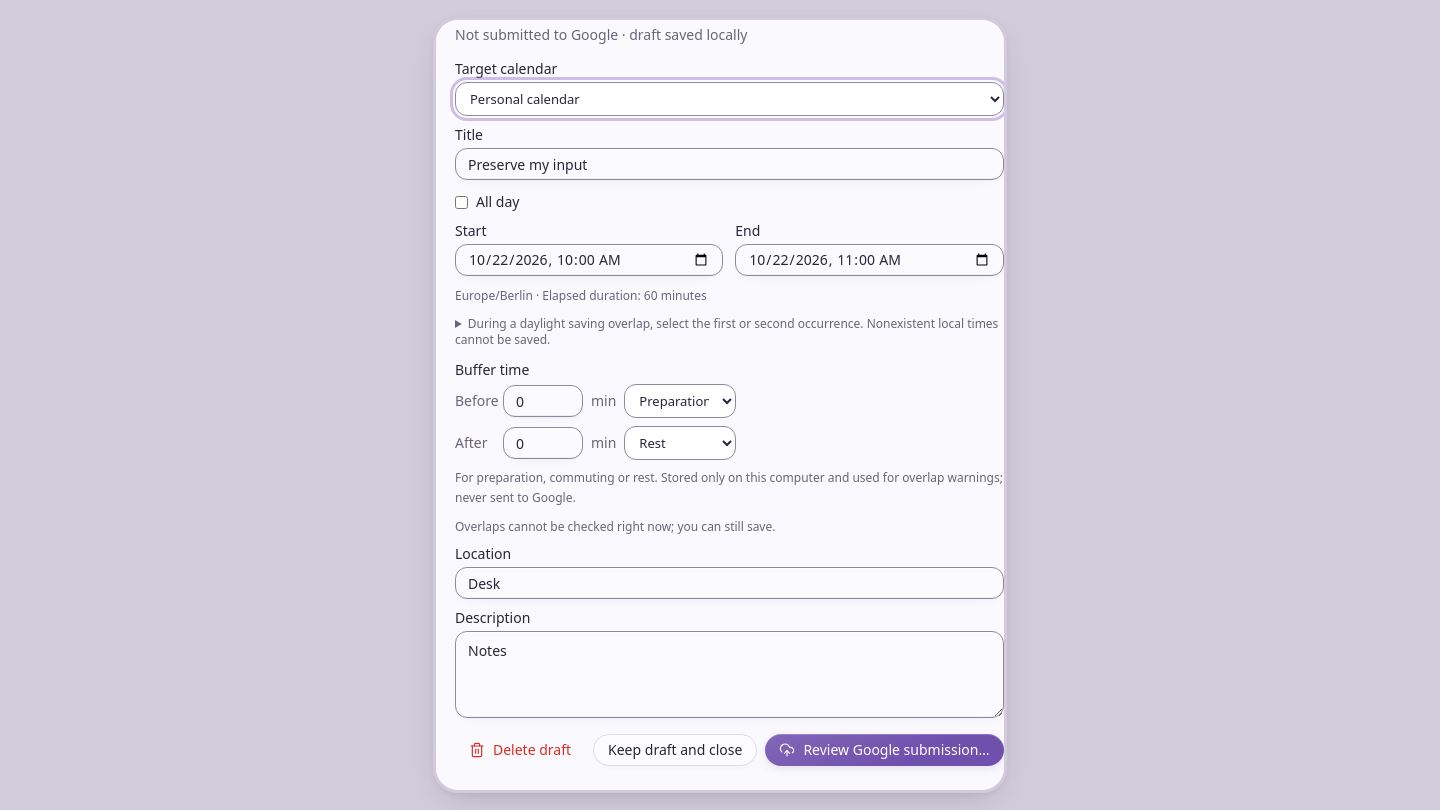
Test: calendar editor › shows both conflict versions and does not offer blind retry
(page scrolled)
Click the button "Review Google submission…". click: coordinates (884, 750)
box: left=765, top=734, right=1004, bottom=766
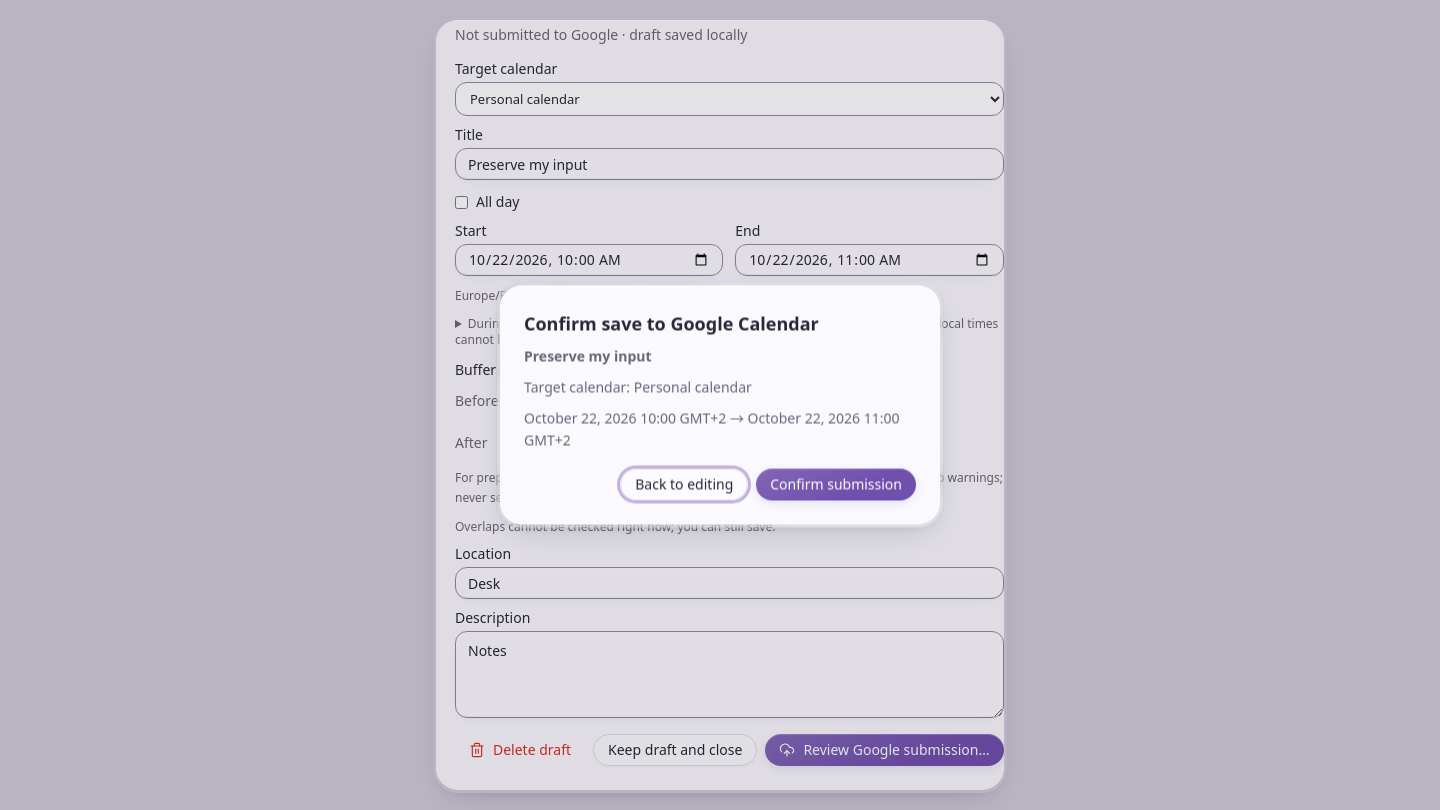
Click the button "Confirm submission". click: coordinates (836, 484)
box: left=756, top=468, right=916, bottom=500
(page scrolled)
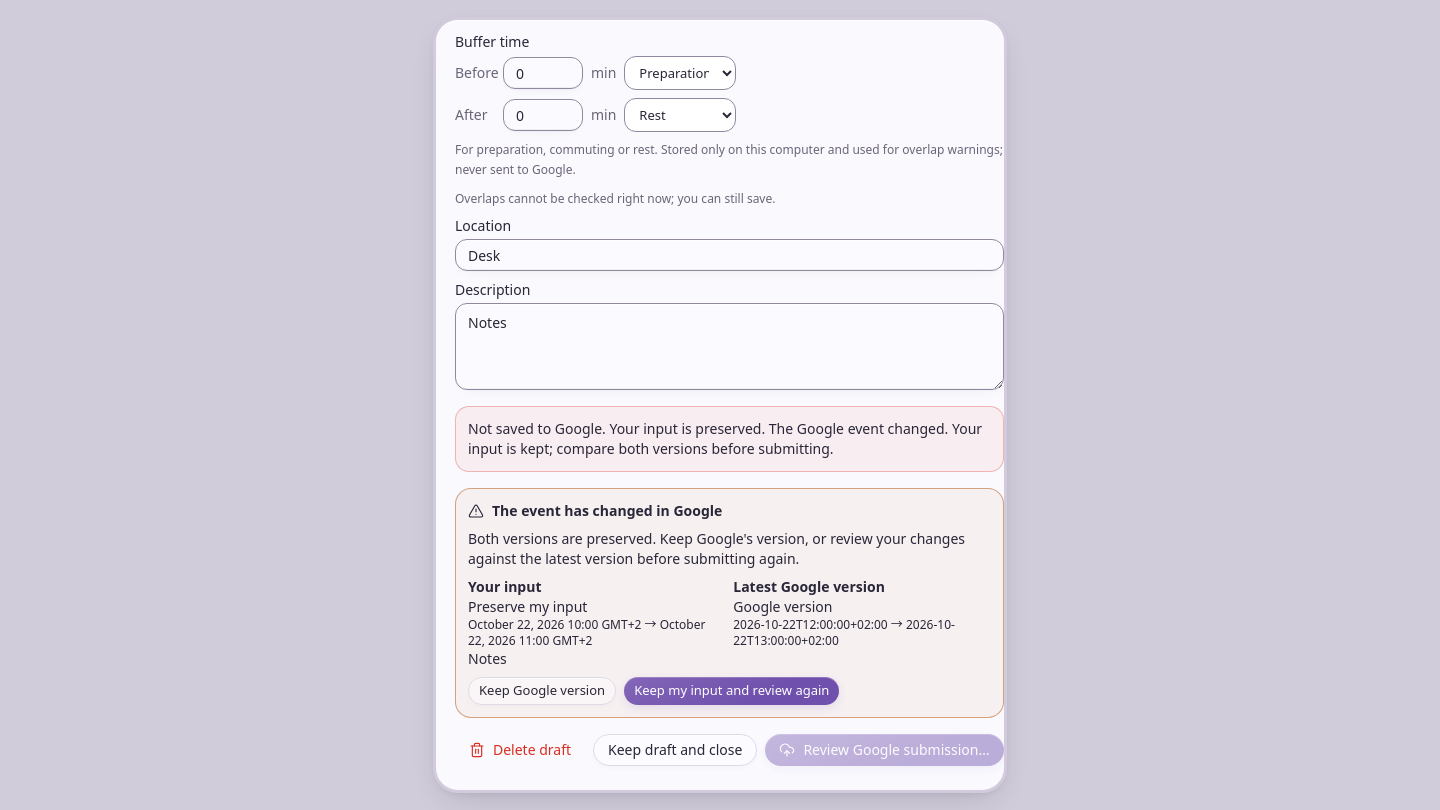
Expected: the text "Google version" is shown, left=733, top=596, right=832, bottom=616
Expected: the text "Your input" is shown, left=468, top=576, right=542, bottom=596
Expected: the button "Review Google submission…" is disabled, left=765, top=734, right=1004, bottom=766
